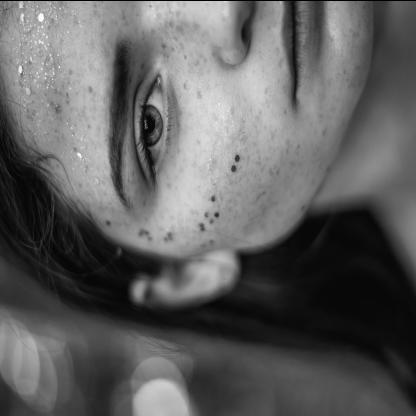Eye: (133, 65, 179, 191)
Mouth: (277, 0, 314, 112)
Nose: (154, 0, 254, 64)
